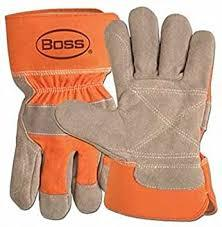gloves: (56, 8, 220, 220), (5, 7, 120, 219)
